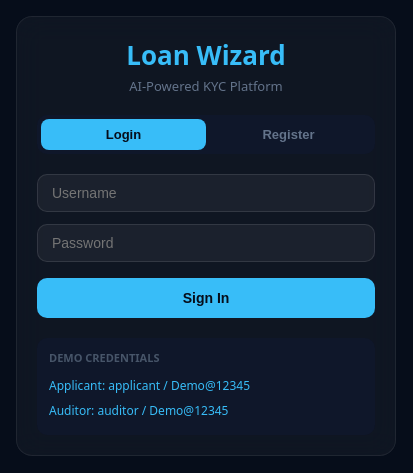
Test case: shows loading state while submitting
Type "user" into the field with placeholder "Username".
click(206, 193); type("user")  # box [37,174,375,212]
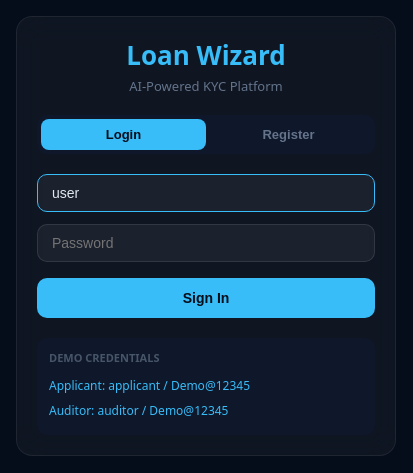
Type "pass" into the password field with placeholder "Password".
click(206, 243); type("pass")  # box [37,224,375,262]
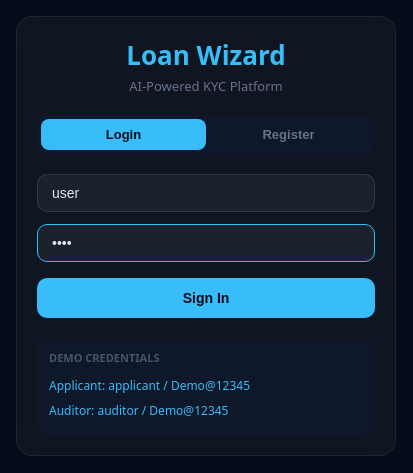
Click the button "Sign In".
click(206, 298)  # box [37,278,375,318]
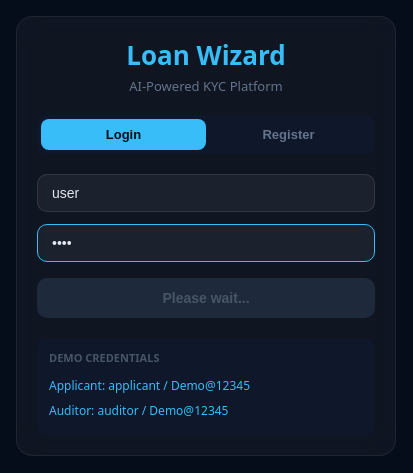
Expected: the button "Please wait..." is shown, [37,278,375,318]
